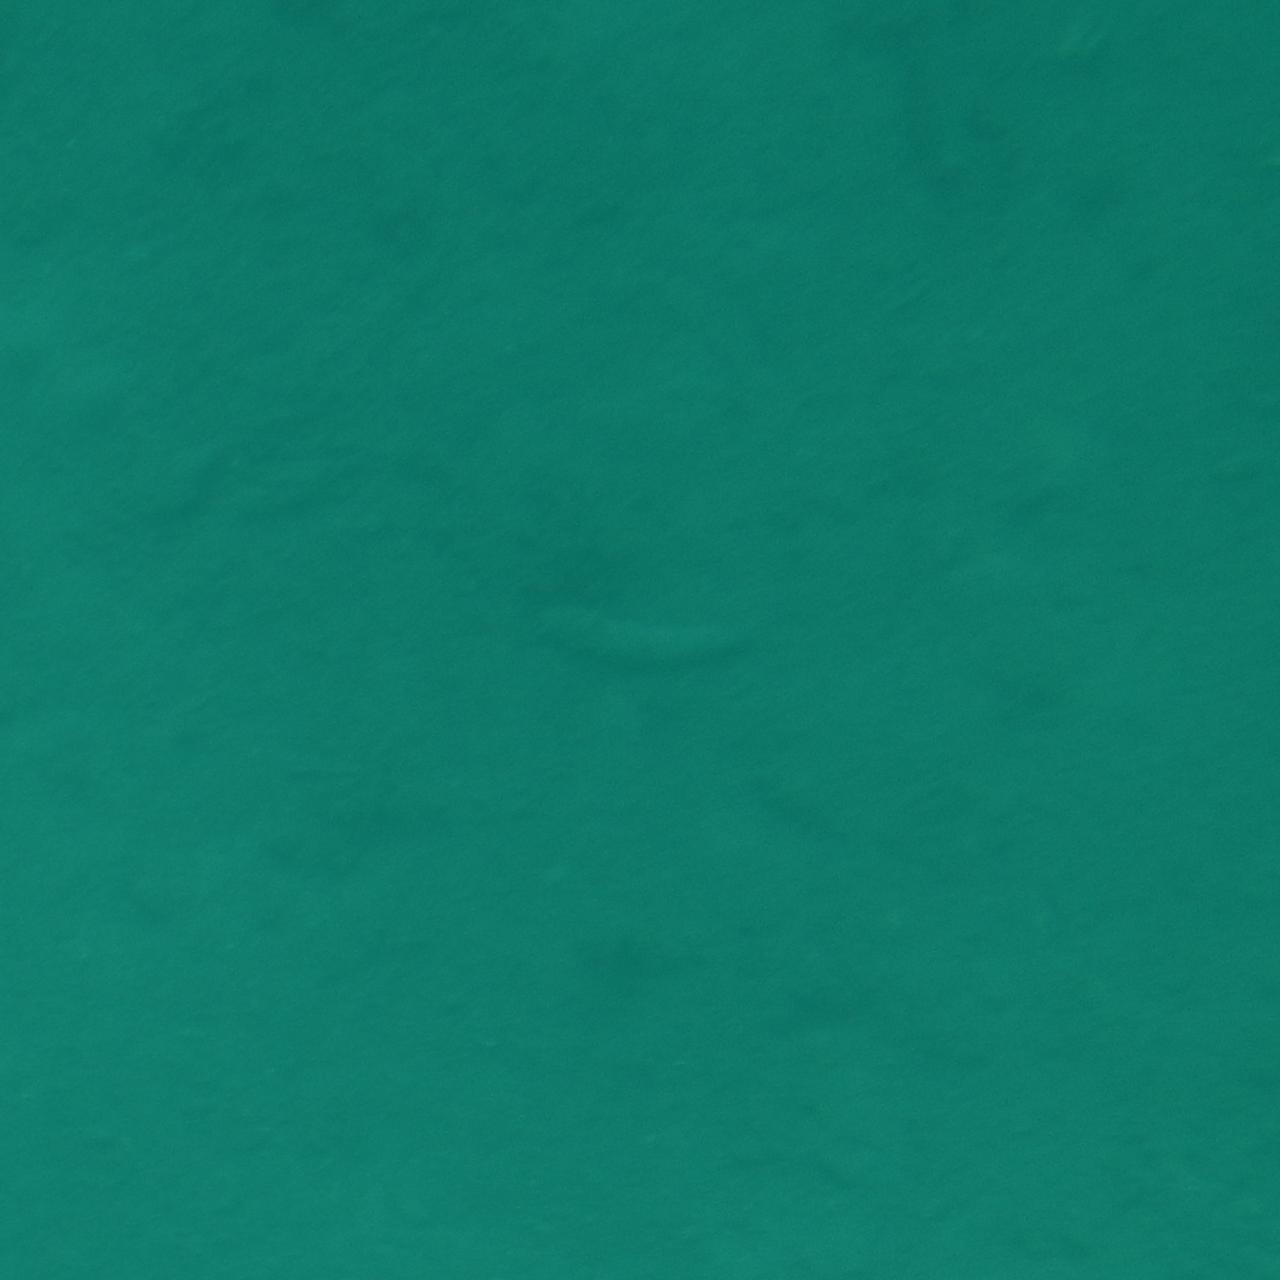Holothuria tubulosa: (512, 572, 768, 708)
